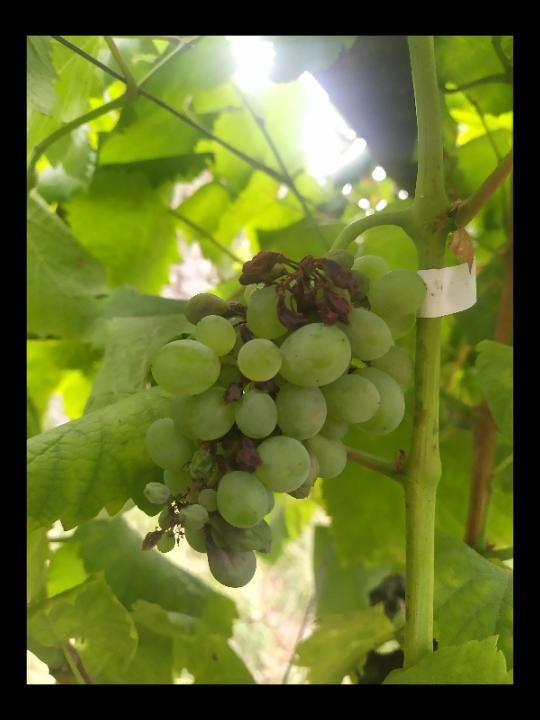grape: (138, 246, 430, 592)
